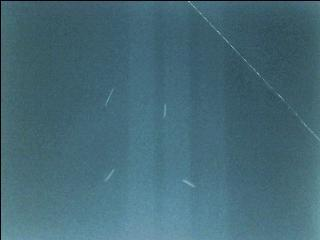crack: (187, 0, 320, 140)
scratch: (176, 172, 201, 196), (99, 85, 119, 114), (98, 163, 120, 189), (156, 98, 175, 123)
